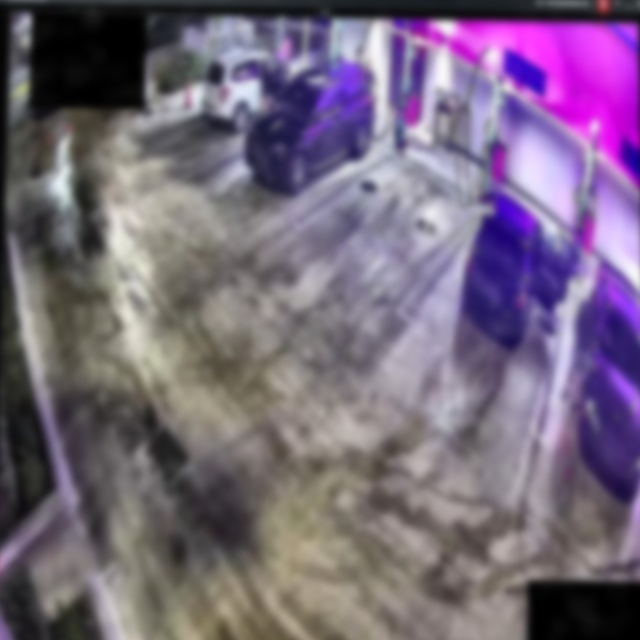Car: (462, 189, 577, 348), (246, 56, 376, 192)
